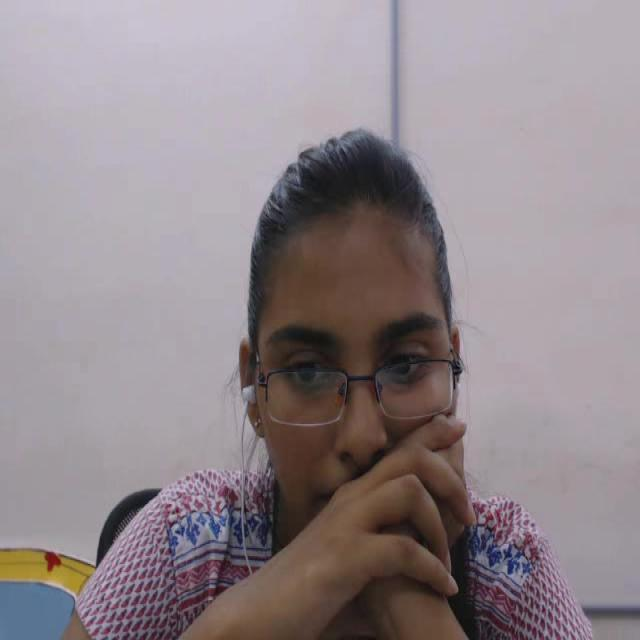Bored: (226, 113, 484, 633)
